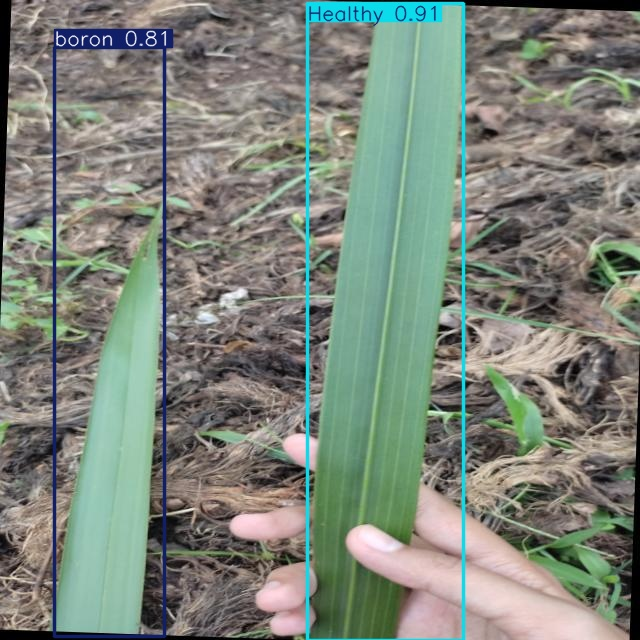Healthy: (307, 3, 464, 640)
nitrogen: (55, 47, 165, 636)
